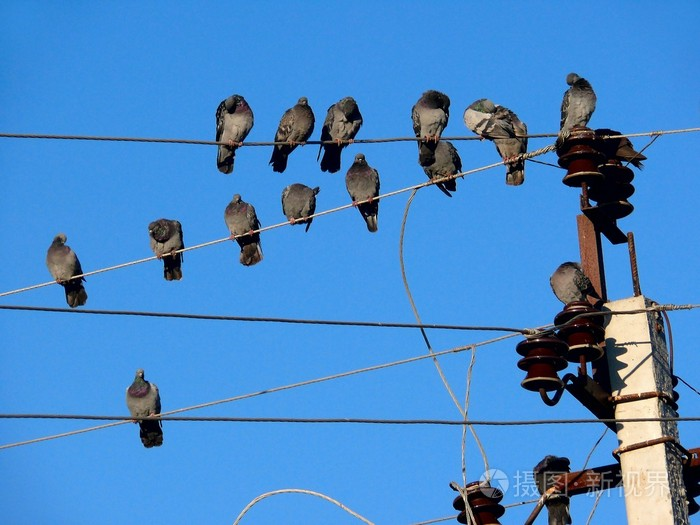insulator: (513, 339, 567, 392), (556, 131, 602, 184), (591, 165, 639, 215), (556, 303, 604, 349), (452, 487, 508, 524)
